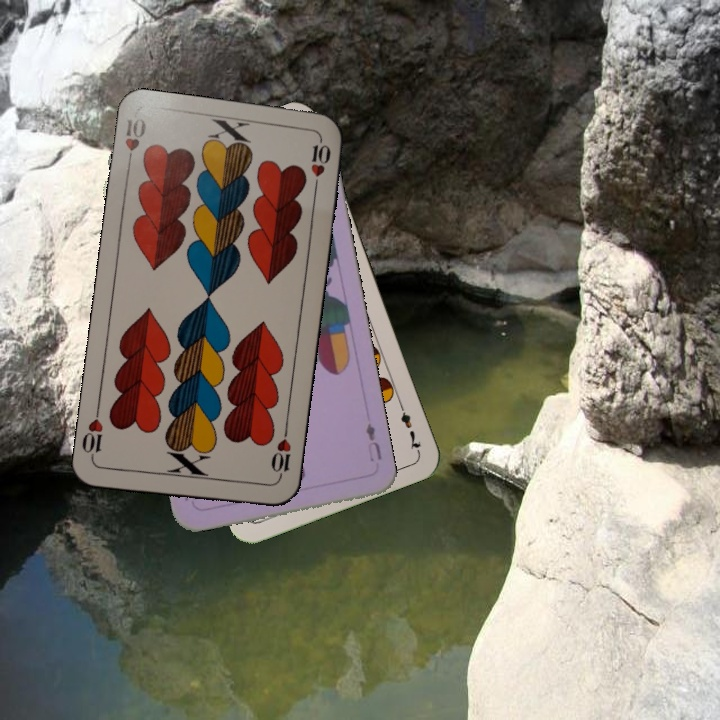E7: (394, 397, 424, 454)
EU: (362, 419, 384, 465)
H10: (266, 425, 294, 484), (121, 113, 149, 172)
